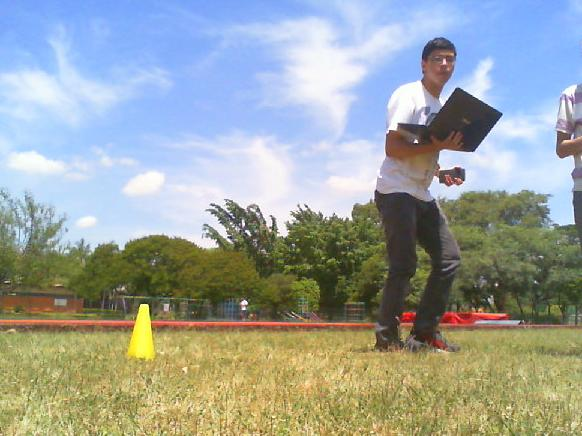0 cone: (125, 304, 155, 361)
